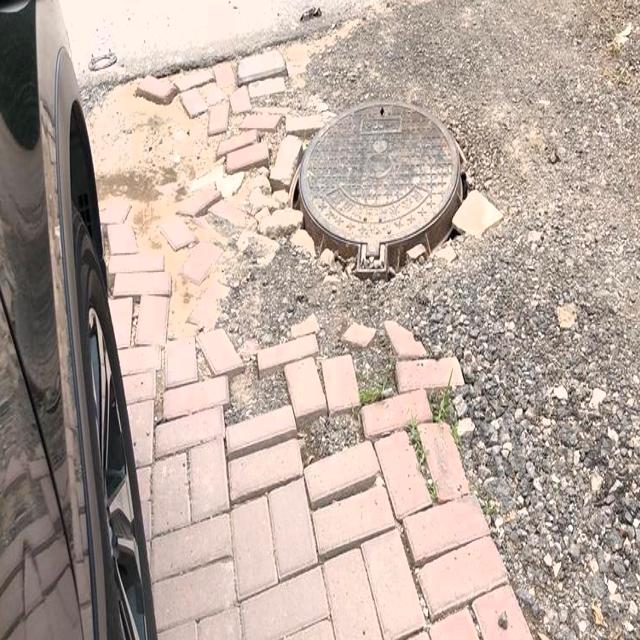circle: (231, 48, 518, 341)
